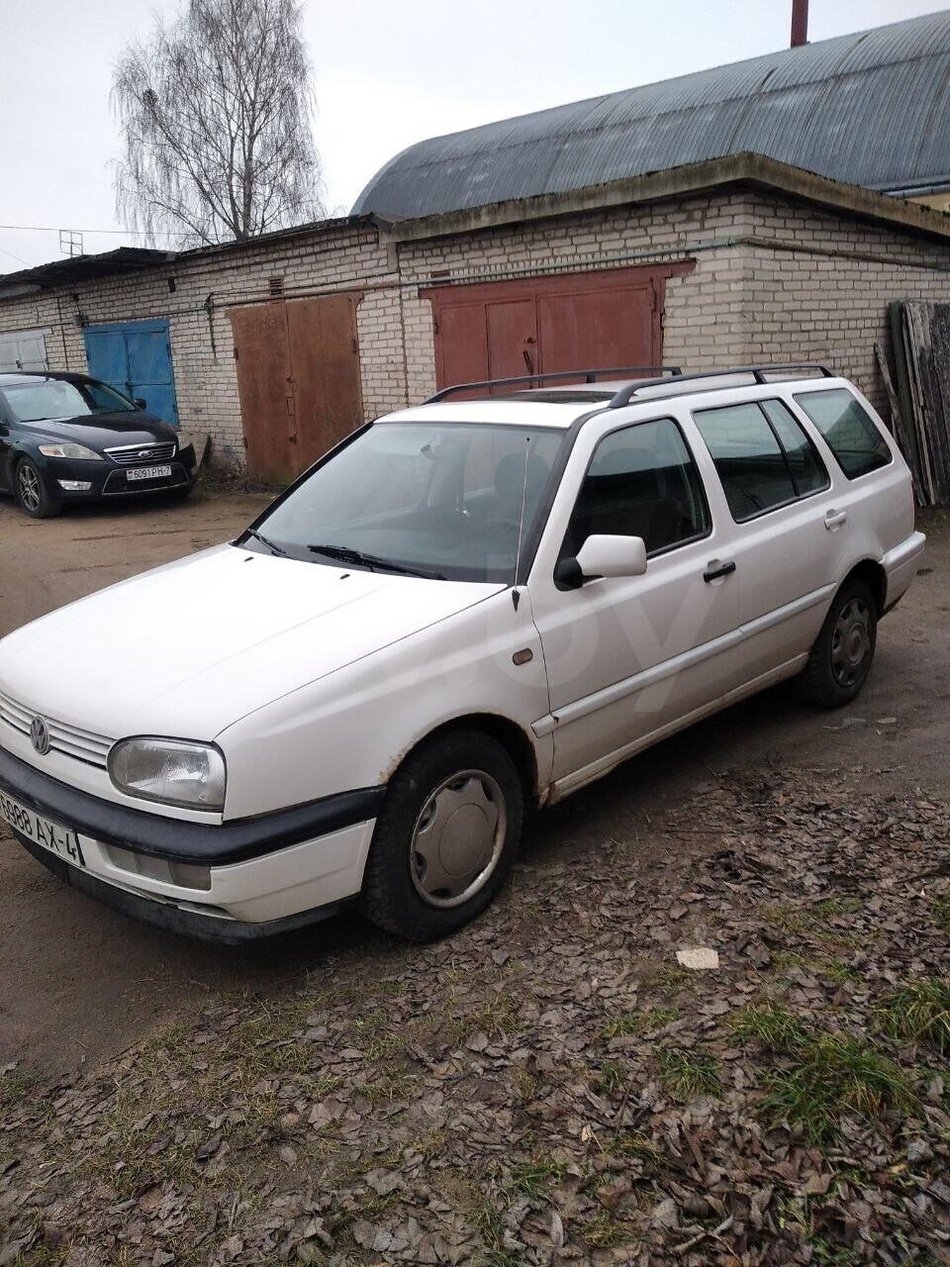Golf_1991-2000: (0, 367, 932, 940)
